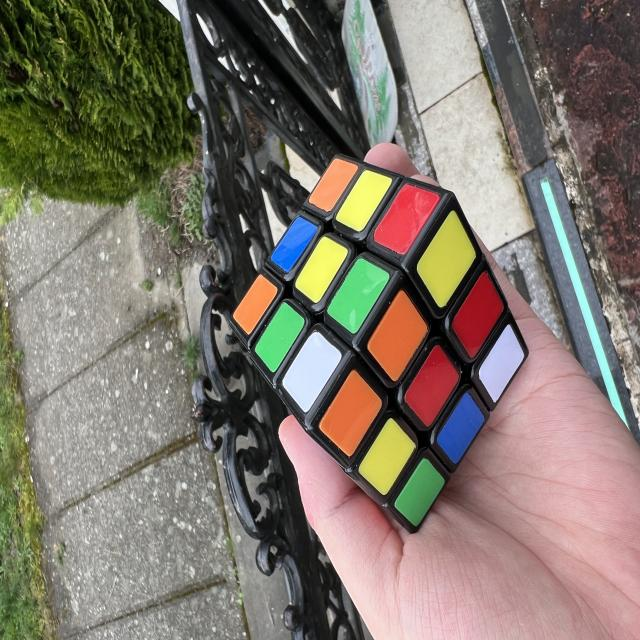blue: (429, 391, 493, 465), (267, 213, 319, 275)
center: (395, 343, 470, 429), (290, 234, 351, 305)
green: (321, 254, 393, 335), (247, 301, 309, 374), (389, 457, 450, 528)
orange: (357, 288, 440, 383), (312, 368, 391, 458), (227, 273, 282, 336), (306, 152, 360, 215)
red: (441, 270, 516, 359), (395, 343, 470, 429), (369, 175, 442, 259)
white: (273, 329, 347, 414), (468, 324, 535, 403)
yellow: (404, 209, 491, 309), (352, 416, 423, 497), (333, 164, 394, 235), (290, 234, 351, 305)
